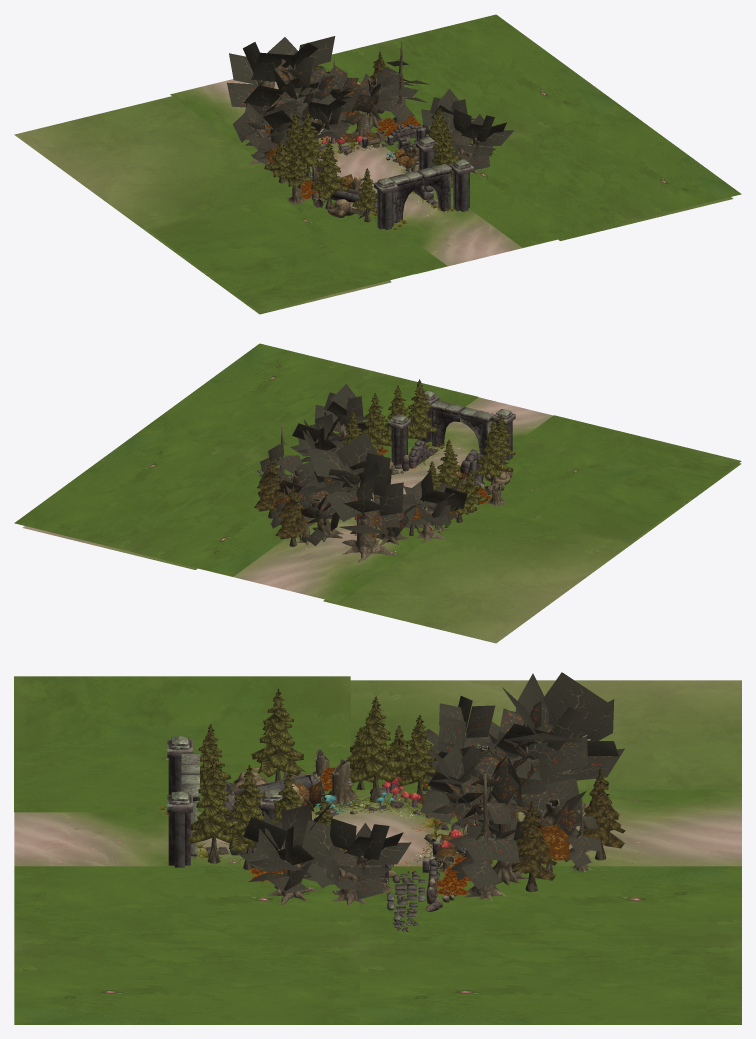
The model's file is changjing_01.fbx.
3 renders of one model, top to bottom at view 1: azimuth 30°, elevation 25°; view 2: azimuth 150°, elevation 25°; view 3: azimuth 270°, elevation 25°, orthographic. The views are drawn at different scales.
Parts seen in each view (by area): view 1: dimian1, shu1, shicai1, hua2, shitou1; view 2: dimian1, shu1, shicai1; view 3: dimian1, shu1, shicai1, hua2.
Boxes of the visible parts, x1,y1,x2,y2 form: dimian1: (14,14,741,314); shu1: (227,36,513,222); shicai1: (301,124,473,229); hua2: (301,115,456,230); shitou1: (327,146,418,217); dimian1: (14,343,741,643); shu1: (254,379,515,562); shicai1: (255,390,515,488); dimian1: (14,676,741,1024); shu1: (188,672,625,906); shicai1: (167,736,465,931); hua2: (157,767,472,895).
Size of the model in its own units: 75901 by 15186 by 67010.
